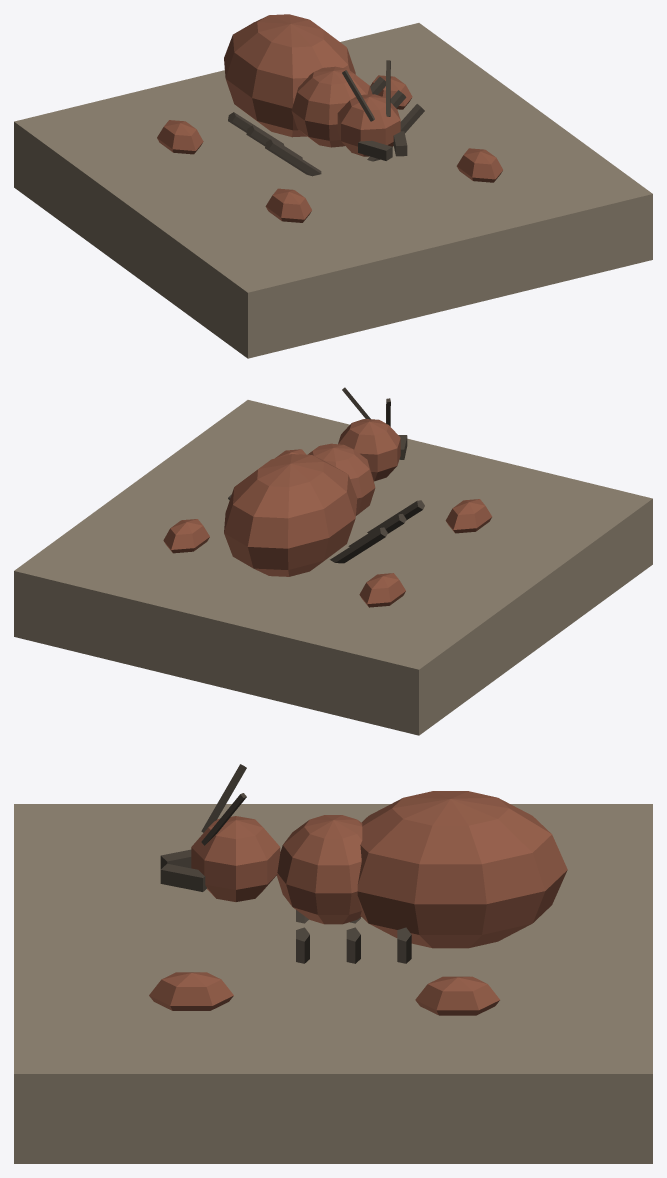
Rendered from bug_army_ant.glb.
The picture shows the model from 3 angles, top to bottom: view 1: azimuth 30°, elevation 25°; view 2: azimuth 150°, elevation 25°; view 3: azimuth 270°, elevation 25°; orthographic projection. The views are drawn at different scales.
Parts seen in each view (by area): view 1: bug_army_antMesh, TurretMesh, HeadMesh; view 2: bug_army_antMesh, TurretMesh, HeadMesh; view 3: bug_army_antMesh, TurretMesh, HeadMesh.
Boxes of the visible parts, left/top/right/bottom form: bug_army_antMesh: left=14, top=23, right=652, bottom=358; TurretMesh: left=224, top=14, right=424, bottom=176; HeadMesh: left=337, top=60, right=407, bottom=160; bug_army_antMesh: left=14, top=400, right=652, bottom=735; TurretMesh: left=224, top=443, right=424, bottom=576; HeadMesh: left=338, top=387, right=407, bottom=481; bug_army_antMesh: left=14, top=804, right=652, bottom=1163; TurretMesh: left=277, top=791, right=567, bottom=963; HeadMesh: left=160, top=764, right=280, bottom=901.
Bounding box in the file's own units: 1.8 × 0.7767 × 1.8.
